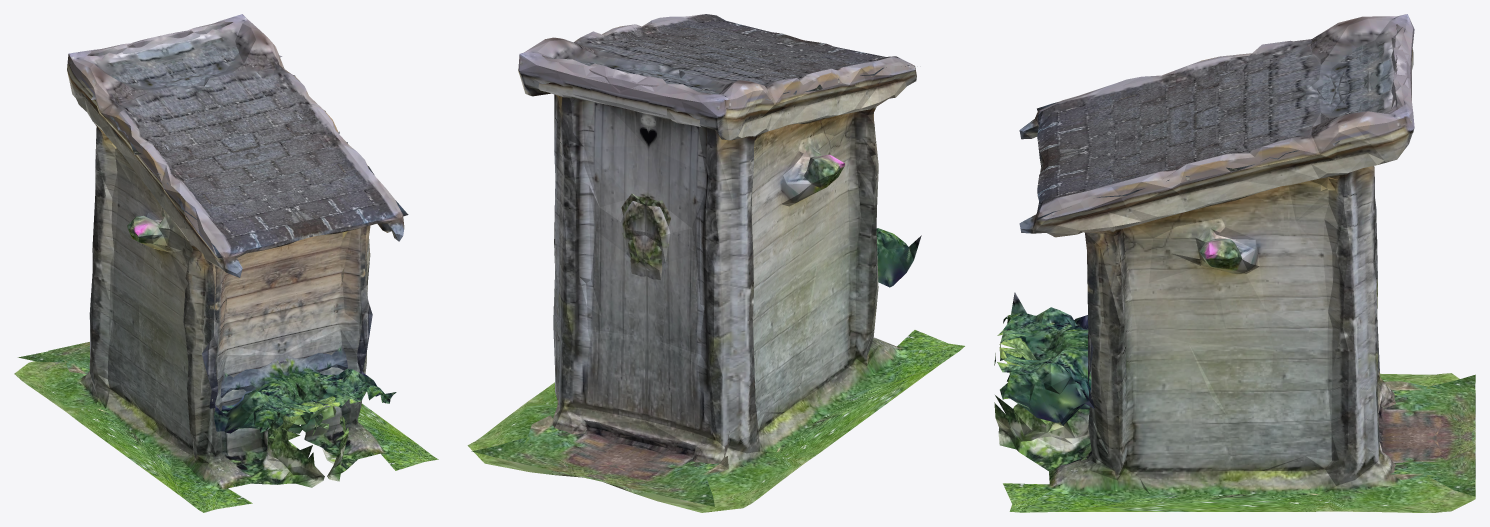
File: plumpsklo.glb
3 renders of one model, left to right at view 1: azimuth 30°, elevation 25°; view 2: azimuth 150°, elevation 25°; view 3: azimuth 270°, elevation 25°, orthographic. The views are drawn at different scales.
Visible parts, largest first — view 1: Mesh_0.007; view 2: Mesh_0.007; view 3: Mesh_0.007.
Part boxes in pixels (x1,y1,x2,y2): Mesh_0.007: (14, 14, 438, 512); Mesh_0.007: (467, 14, 964, 512); Mesh_0.007: (994, 14, 1475, 512).
Bounding box in the file's own units: 1.7 × 2.29 × 2.59.
Materials: 1 (1 with a texture image).
